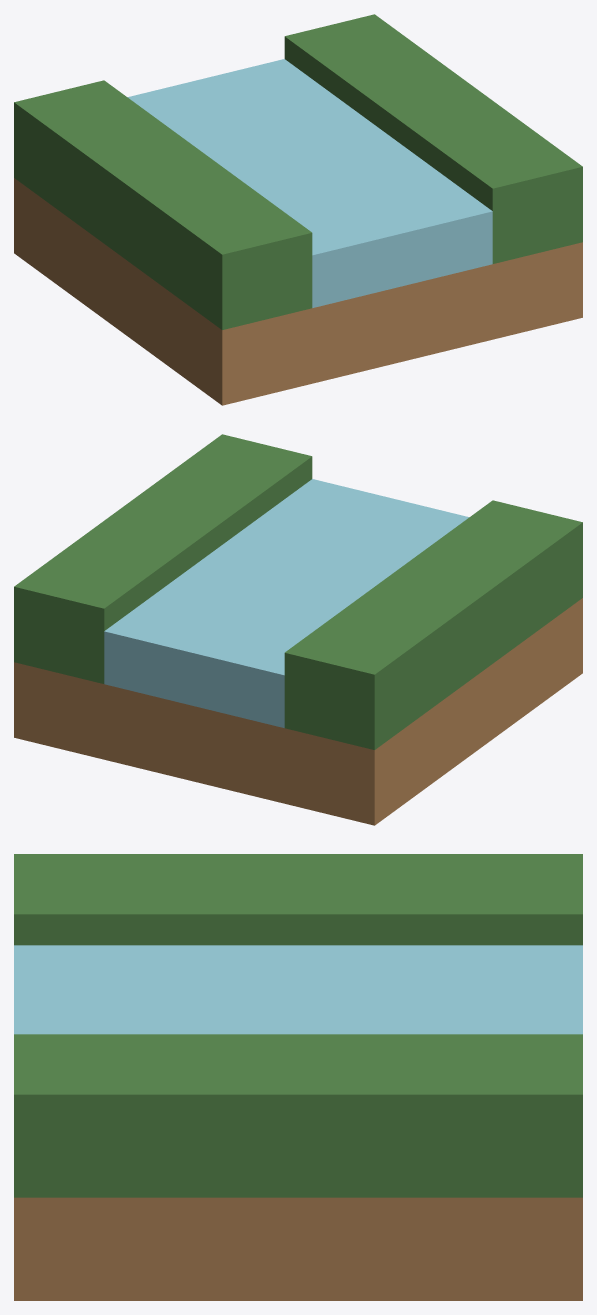
Rendered from towerDefense_080.obj.
The picture shows the model from 3 angles, top to bottom: view 1: azimuth 30°, elevation 25°; view 2: azimuth 150°, elevation 25°; view 3: azimuth 270°, elevation 25°; orthographic projection. The views are drawn at different scales.
Visible parts, largest first — view 1: Mesh1 Group1 Model; view 2: Mesh1 Group1 Model; view 3: Mesh1 Group1 Model.
Part boxes in pixels (x1,y1,x2,y2): Mesh1 Group1 Model: [14, 14, 582, 405]; Mesh1 Group1 Model: [14, 434, 582, 825]; Mesh1 Group1 Model: [14, 854, 582, 1300].
Size of the model in its own units: 1 by 0.4 by 1.
